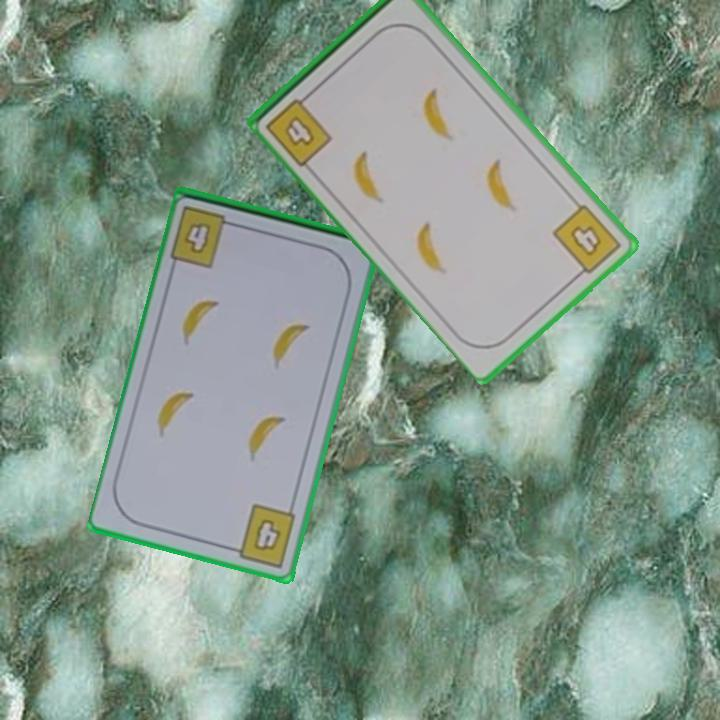4b: (548, 200, 625, 282), (262, 87, 336, 169), (167, 202, 243, 271), (226, 500, 299, 571)
